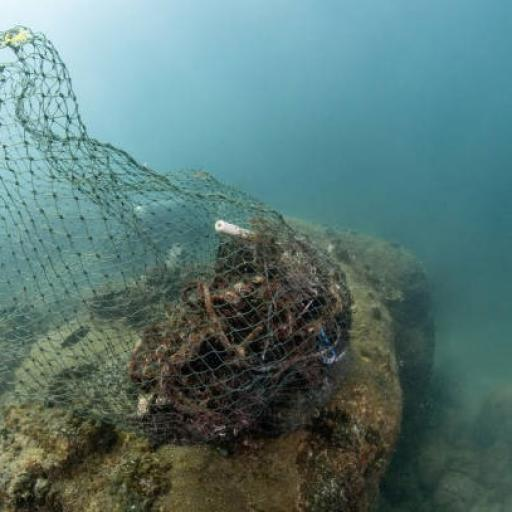net: (0, 19, 347, 436)
